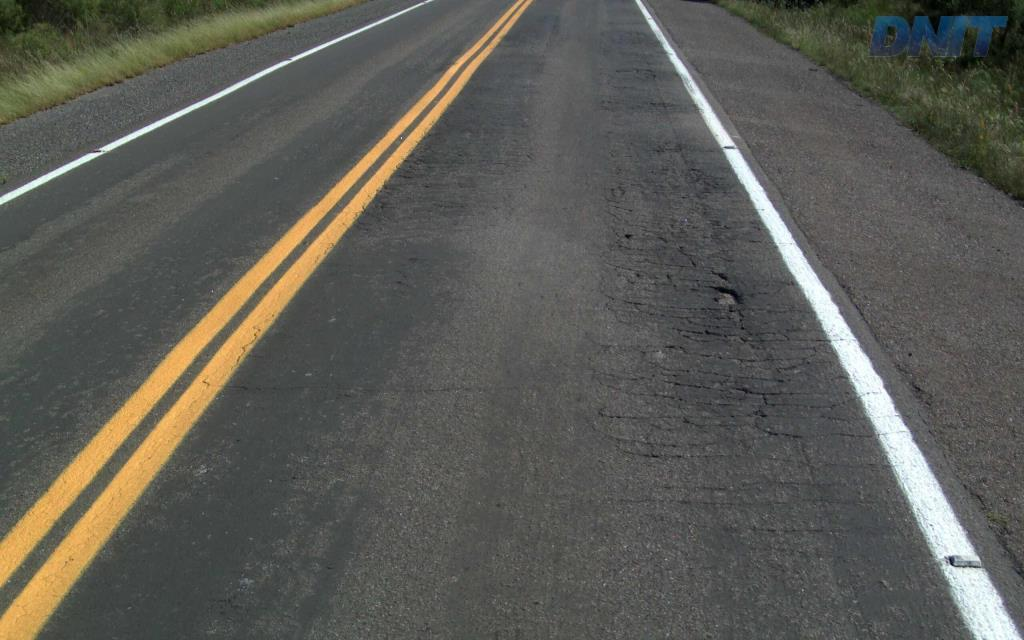crack: (700, 283, 765, 349)
pothole: (712, 282, 741, 305), (710, 269, 728, 279), (624, 225, 637, 238)
